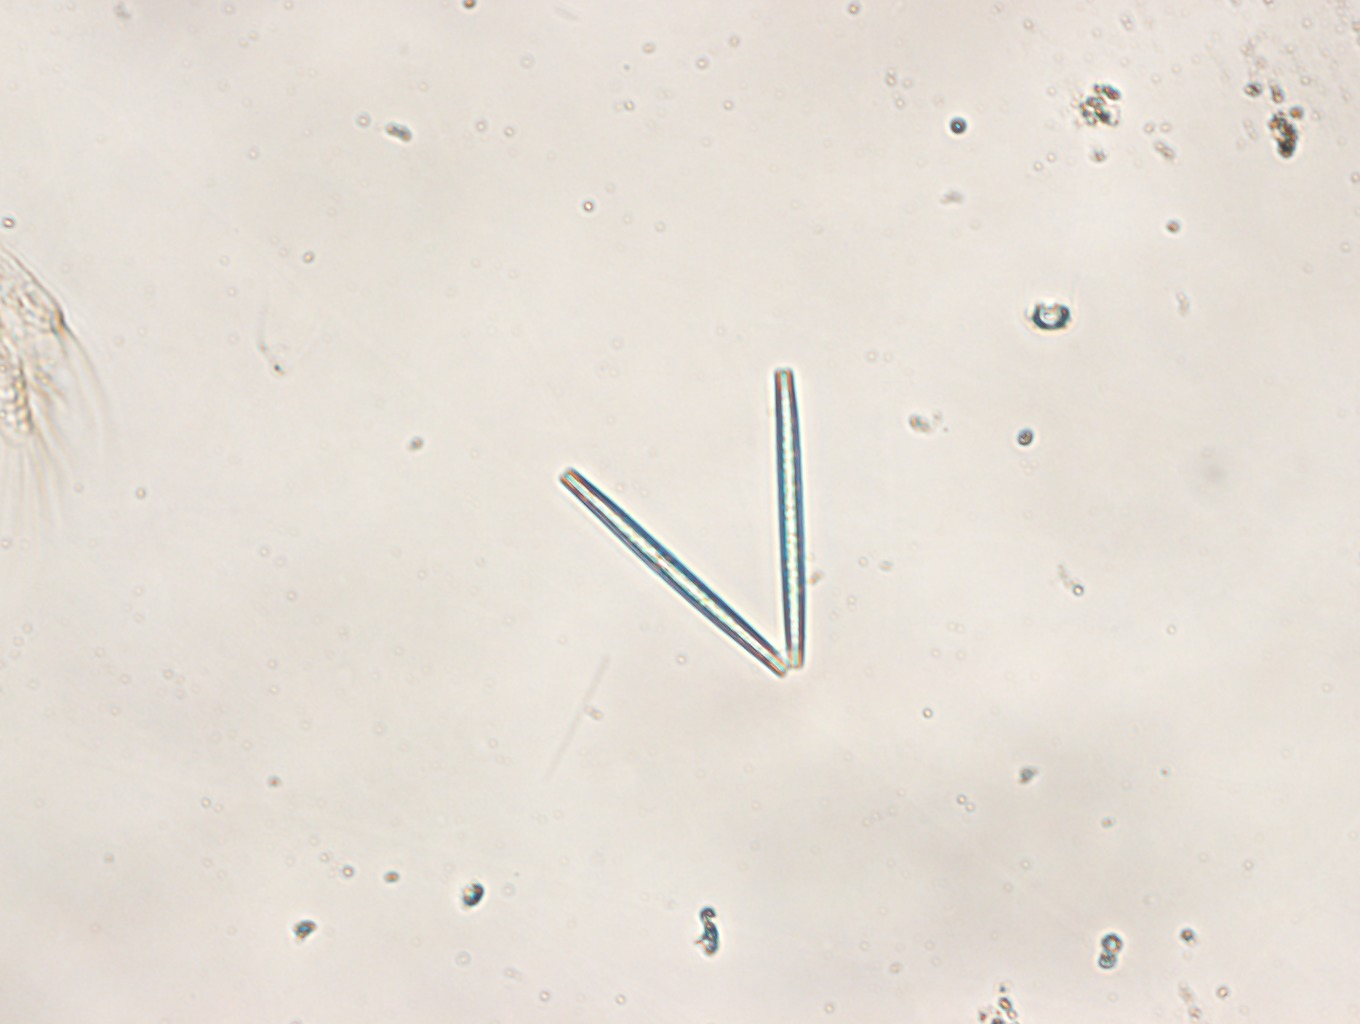thalassionema nitzschioides: (557, 366, 806, 679)
